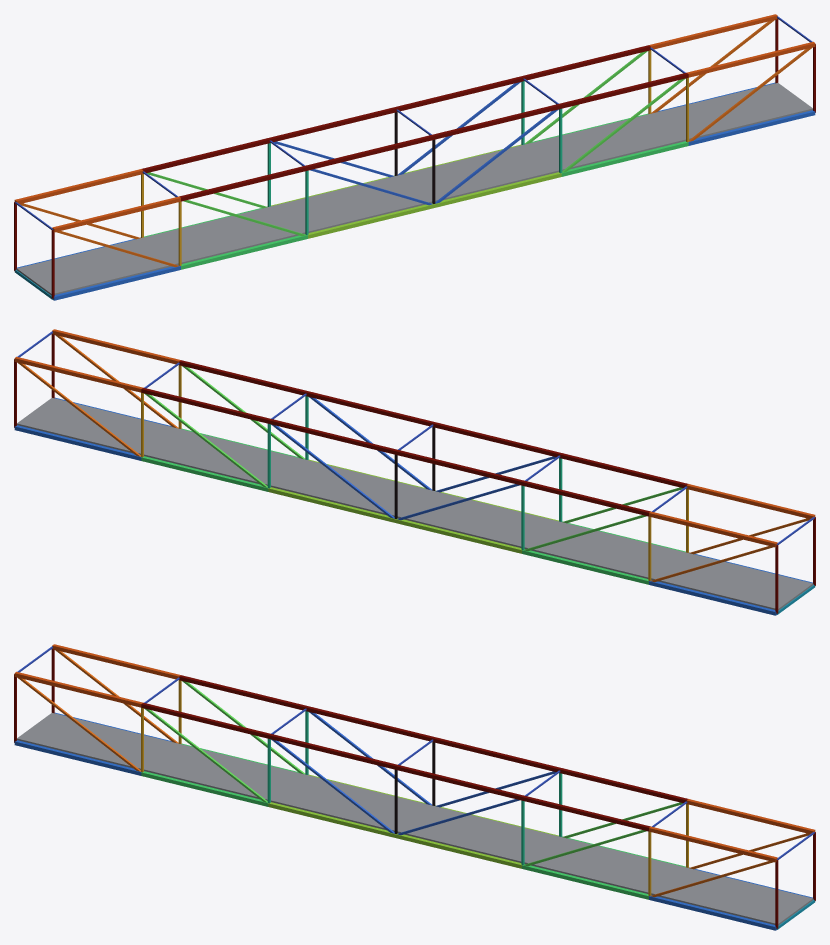
The model's file is 35_3_6_HEA160.glb.
3 views of the same model, one above another, from view 1: azimuth 30°, elevation 25°; view 2: azimuth 150°, elevation 25°; view 3: azimuth 330°, elevation 25° (orthographic).
Size of the model in its own units: 35.09 by 3.16 by 3.16.
